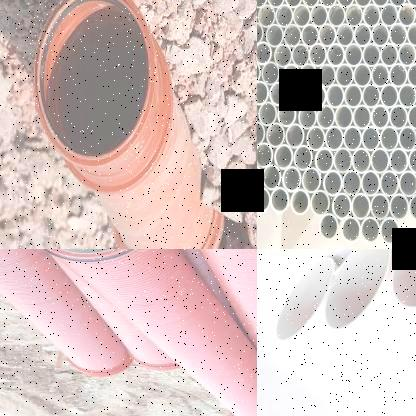pipe: (37, 0, 152, 163), (325, 249, 391, 329), (277, 257, 335, 342), (319, 214, 340, 241), (341, 216, 361, 244), (370, 194, 390, 222), (351, 193, 371, 221), (331, 194, 352, 220), (310, 191, 331, 217), (301, 168, 322, 194), (380, 218, 400, 245), (360, 217, 380, 244), (389, 194, 409, 221), (290, 189, 310, 216), (342, 170, 362, 197), (380, 170, 399, 198), (293, 146, 314, 171), (277, 102, 297, 128), (270, 188, 290, 214), (323, 170, 343, 196), (282, 166, 302, 192), (262, 165, 282, 191), (370, 148, 390, 174), (314, 148, 334, 174), (274, 144, 294, 170), (306, 126, 326, 151), (286, 124, 306, 149), (266, 123, 286, 148), (352, 105, 372, 130), (269, 82, 289, 107), (380, 126, 399, 152), (389, 104, 408, 130), (298, 104, 317, 130), (361, 170, 380, 196), (352, 148, 371, 174), (398, 171, 416, 198), (390, 148, 408, 175), (334, 147, 352, 174), (258, 102, 278, 126), (261, 62, 281, 86), (325, 126, 344, 151), (316, 105, 335, 130), (353, 63, 372, 88), (273, 43, 292, 68), (397, 42, 416, 67), (275, 4, 294, 29), (398, 126, 416, 152), (362, 126, 380, 152), (344, 126, 362, 152), (308, 84, 326, 110), (326, 84, 344, 110), (398, 83, 416, 109), (380, 84, 398, 110), (380, 42, 398, 68), (281, 64, 300, 88), (353, 24, 372, 48), (257, 4, 276, 28), (327, 4, 346, 28), (335, 105, 353, 130), (371, 105, 389, 130), (344, 84, 362, 109), (318, 63, 336, 88), (336, 63, 354, 88), (300, 63, 318, 88), (372, 63, 390, 88), (389, 63, 407, 88), (292, 43, 310, 68), (327, 43, 345, 68), (309, 43, 327, 68), (344, 43, 362, 68), (362, 43, 380, 68), (336, 23, 354, 48), (293, 4, 311, 29), (310, 4, 328, 29), (380, 3, 398, 28), (398, 3, 416, 28), (265, 24, 284, 47), (290, 84, 308, 108), (362, 84, 380, 108), (284, 24, 302, 48), (301, 24, 319, 48), (318, 24, 336, 48), (372, 24, 390, 48), (389, 23, 407, 47), (345, 4, 363, 28), (362, 4, 380, 28), (257, 143, 273, 168), (257, 42, 272, 65), (257, 187, 270, 213), (257, 81, 269, 105), (406, 22, 416, 47), (407, 104, 416, 130), (407, 63, 416, 88), (408, 194, 416, 221), (408, 148, 416, 174), (257, 121, 265, 146), (257, 22, 264, 45), (284, 0, 302, 8), (319, 0, 337, 8), (336, 0, 354, 8), (371, 0, 389, 8), (267, 0, 284, 8), (302, 0, 319, 8), (389, 0, 406, 8), (257, 164, 262, 190), (354, 0, 371, 7), (257, 60, 261, 84)
